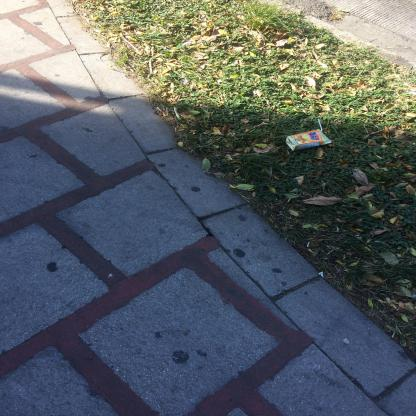karton: (284, 119, 332, 151)
